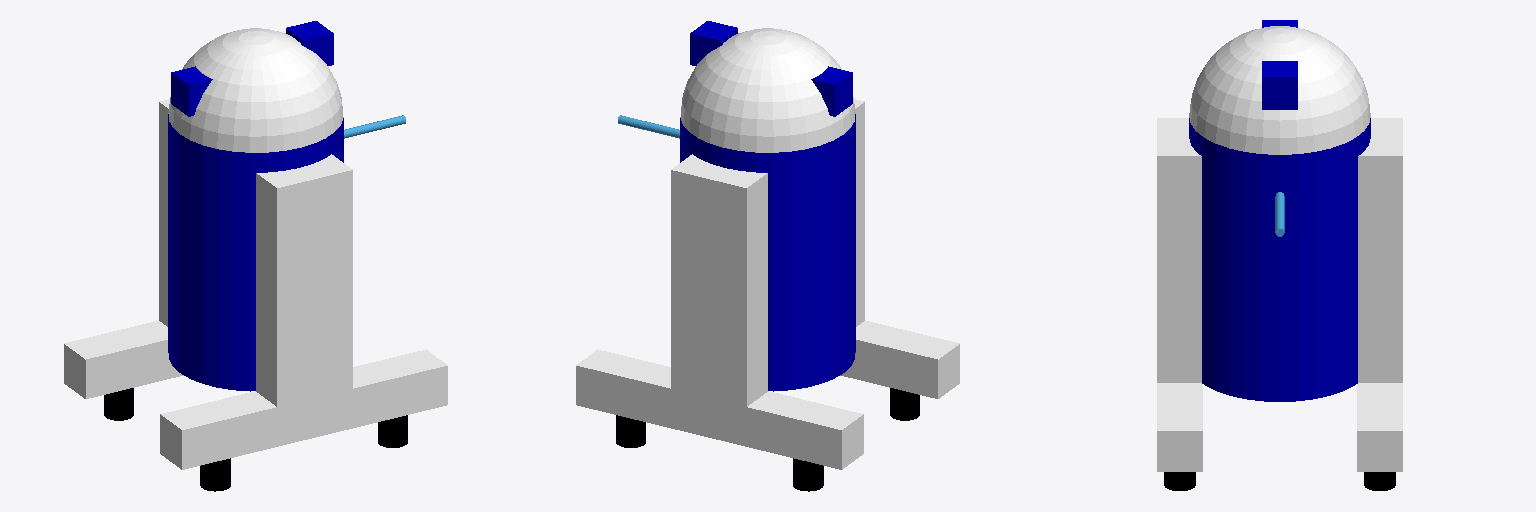
--- Facts derived from the render (not from the file) ---
Views: 3 orthographic renders of the robot side by side, from view 1: azimuth 30°, elevation 25°; view 2: azimuth 150°, elevation 25°; view 3: azimuth 270°, elevation 25°.
Model r2d2 with 24 links and 23 joints (2 revolute, 5 continuous, 1 prismatic, 15 fixed), rooted at base_link, posed all joints at 0.
Visible links, largest first — view 1: right_leg, base_link, head, right_base, left_base, left_leg, box2, box, right_back_wheel, left_back_wheel, right_front_wheel, gripper_pole; view 2: left_leg, base_link, head, left_base, right_base, right_leg, box2, box, left_back_wheel, right_back_wheel, left_front_wheel, gripper_pole; view 3: base_link, head, right_leg, left_leg, right_base, left_base, box, right_front_wheel, left_front_wheel.
Link boxes in pixels (bbox=[...]): right_leg: bbox=[256, 154, 352, 425]; base_link: bbox=[168, 114, 343, 391]; head: bbox=[168, 28, 343, 152]; right_base: bbox=[160, 349, 447, 469]; left_base: bbox=[64, 320, 183, 398]; left_leg: bbox=[159, 99, 169, 326]; box2: bbox=[171, 66, 212, 116]; box: bbox=[286, 21, 333, 65]; right_back_wheel: bbox=[200, 458, 230, 491]; left_back_wheel: bbox=[104, 388, 133, 420]; right_front_wheel: bbox=[378, 415, 407, 447]; gripper_pole: bbox=[344, 115, 405, 138]; left_leg: bbox=[671, 154, 767, 426]; base_link: bbox=[680, 114, 855, 391]; head: bbox=[680, 28, 855, 152]; left_base: bbox=[576, 349, 863, 469]; right_base: bbox=[840, 320, 959, 398]; right_leg: bbox=[854, 99, 864, 326]; box2: bbox=[811, 66, 852, 116]; box: bbox=[690, 21, 737, 65]; left_back_wheel: bbox=[793, 458, 823, 491]; right_back_wheel: bbox=[890, 388, 919, 420]; left_front_wheel: bbox=[616, 415, 645, 447]; gripper_pole: bbox=[618, 115, 679, 138]; base_link: bbox=[1189, 118, 1370, 401]; head: bbox=[1189, 26, 1370, 154]; right_leg: bbox=[1157, 118, 1201, 382]; left_leg: bbox=[1358, 118, 1402, 382]; right_base: bbox=[1157, 383, 1202, 471]; left_base: bbox=[1357, 383, 1402, 471]; box: bbox=[1262, 61, 1297, 109]; right_front_wheel: bbox=[1164, 472, 1195, 490]; left_front_wheel: bbox=[1364, 472, 1395, 490].
Size in the robot's own frame: 0.74 by 0.54 by 0.985 metres.
Meshes: 3 distinct files referenced, 0 mesh visuals loaded (none loaded); not drawn: 5 (reference not matched to a file when rendering).

URDF robot description (r2d2):
<?xml version="1.0" ?>
<!-- =================================================================================== -->
<!-- |    This document was autogenerated by xacro from urdf/r2d2.xacro                | -->
<!-- |    EDITING THIS FILE BY HAND IS NOT RECOMMENDED                                 | -->
<!-- =================================================================================== -->
<robot name="r2d2" xmlns:xacro="http://ros.org/wiki/xacro">
  <material name="blue">
    <color rgba="0 0 .8 1"/>
  </material>
  <material name="black">
    <color rgba="0 0 0 1"/>
  </material>
  <material name="white">
    <color rgba="1 1 1 1"/>
  </material>
  <link name="base_link">
    <visual>
      <geometry>
        <cylinder length="0.6" radius="0.2"/>
      </geometry>
      <material name="blue"/>
    </visual>
    <collision>
      <geometry>
        <cylinder length="0.6" radius="0.2"/>
      </geometry>
    </collision>
    <inertial>
      <mass value="10"/>
      <inertia ixx="1.0" ixy="0.0" ixz="0.0" iyy="1.0" iyz="0.0" izz="1.0"/>
    </inertial>
  </link>
  <gazebo reference="base_link">
    <material>Gazebo/Blue</material>
  </gazebo>
  <link name="right_leg">
    <visual>
      <geometry>
        <box size="0.6 .1 .2"/>
      </geometry>
      <origin rpy="0 1.57075 0" xyz="0 0 -0.3"/>
      <material name="white"/>
    </visual>
    <collision>
      <geometry>
        <box size="0.6 .1 .2"/>
      </geometry>
      <origin rpy="0 1.57075 0" xyz="0 0 -0.3"/>
    </collision>
    <inertial>
      <mass value="10"/>
      <inertia ixx="1.0" ixy="0.0" ixz="0.0" iyy="1.0" iyz="0.0" izz="1.0"/>
    </inertial>
  </link>
  <gazebo reference="right_leg">
    <material>Gazebo/White</material>
  </gazebo>
  <joint name="base_to_right_leg" type="fixed">
    <parent link="base_link"/>
    <child link="right_leg"/>
    <origin xyz="0 -0.22 .25"/>
  </joint>
  <link name="right_base">
    <visual>
      <geometry>
        <box size="0.7 .1 .1"/>
      </geometry>
      <material name="white"/>
    </visual>
    <collision>
      <geometry>
        <box size="0.7 .1 .1"/>
      </geometry>
    </collision>
    <inertial>
      <mass value="10"/>
      <inertia ixx="1.0" ixy="0.0" ixz="0.0" iyy="1.0" iyz="0.0" izz="1.0"/>
    </inertial>
  </link>
  <gazebo reference="right_base">
    <material>Gazebo/White</material>
  </gazebo>
  <joint name="right_base_joint" type="fixed">
    <parent link="right_leg"/>
    <child link="right_base"/>
    <origin xyz="0 0 -0.6"/>
  </joint>
  <link name="right_front_wheel">
    <visual>
      <origin rpy="1.57075 0 0" xyz="0 0 0"/>
      <geometry>
        <cylinder length="0.1" radius="0.035"/>
      </geometry>
      <material name="black"/>
      <origin rpy="0 0 0" xyz="0 0 0"/>
    </visual>
    <collision>
      <origin rpy="1.57075 0 0" xyz="0 0 0"/>
      <geometry>
        <cylinder length="0.1" radius="0.035"/>
      </geometry>
      <origin rpy="0 0 0" xyz="0 0 0"/>
    </collision>
    <inertial>
      <mass value="1"/>
      <inertia ixx="1.0" ixy="0.0" ixz="0.0" iyy="1.0" iyz="0.0" izz="1.0"/>
    </inertial>
  </link>
  <joint name="right_front_wheel_joint" type="continuous">
    <axis rpy="0 0 0" xyz="0 1 0"/>
    <parent link="right_base"/>
    <child link="right_front_wheel"/>
    <origin rpy="0 0 0" xyz="0.233333333333 0 -0.085"/>
  </joint>
  <!-- This block provides the simulator (Gazebo) with information on a few additional
    physical properties. See http://gazebosim.org/tutorials/?tut=ros_urdf for more-->
  <gazebo reference="right_front_wheel">
    <mu1 value="200.0"/>
    <mu2 value="100.0"/>
    <kp value="10000000.0"/>
    <kd value="1.0"/>
    <material>Gazebo/Grey</material>
  </gazebo>
  <!-- This block connects the wheel joint to an actuator (motor), which informs both
    simulation and visualization of the robot -->
  <transmission name="right_front_wheel_trans" type="SimpleTransmission">
    <type>transmission_interface/SimpleTransmission</type>
    <actuator name="right_front_wheel_motor">
      <mechanicalReduction>1</mechanicalReduction>
    </actuator>
    <joint name="right_front_wheel_joint">
      <hardwareInterface>VelocityJointInterface</hardwareInterface>
    </joint>
  </transmission>
  <link name="right_back_wheel">
    <visual>
      <origin rpy="1.57075 0 0" xyz="0 0 0"/>
      <geometry>
        <cylinder length="0.1" radius="0.035"/>
      </geometry>
      <material name="black"/>
      <origin rpy="0 0 0" xyz="0 0 0"/>
    </visual>
    <collision>
      <origin rpy="1.57075 0 0" xyz="0 0 0"/>
      <geometry>
        <cylinder length="0.1" radius="0.035"/>
      </geometry>
      <origin rpy="0 0 0" xyz="0 0 0"/>
    </collision>
    <inertial>
      <mass value="1"/>
      <inertia ixx="1.0" ixy="0.0" ixz="0.0" iyy="1.0" iyz="0.0" izz="1.0"/>
    </inertial>
  </link>
  <joint name="right_back_wheel_joint" type="continuous">
    <axis rpy="0 0 0" xyz="0 1 0"/>
    <parent link="right_base"/>
    <child link="right_back_wheel"/>
    <origin rpy="0 0 0" xyz="-0.233333333333 0 -0.085"/>
  </joint>
  <!-- This block provides the simulator (Gazebo) with information on a few additional
    physical properties. See http://gazebosim.org/tutorials/?tut=ros_urdf for more-->
  <gazebo reference="right_back_wheel">
    <mu1 value="200.0"/>
    <mu2 value="100.0"/>
    <kp value="10000000.0"/>
    <kd value="1.0"/>
    <material>Gazebo/Grey</material>
  </gazebo>
  <!-- This block connects the wheel joint to an actuator (motor), which informs both
    simulation and visualization of the robot -->
  <transmission name="right_back_wheel_trans" type="SimpleTransmission">
    <type>transmission_interface/SimpleTransmission</type>
    <actuator name="right_back_wheel_motor">
      <mechanicalReduction>1</mechanicalReduction>
    </actuator>
    <joint name="right_back_wheel_joint">
      <hardwareInterface>VelocityJointInterface</hardwareInterface>
    </joint>
  </transmission>
  <link name="left_leg">
    <visual>
      <geometry>
        <box size="0.6 .1 .2"/>
      </geometry>
      <origin rpy="0 1.57075 0" xyz="0 0 -0.3"/>
      <material name="white"/>
    </visual>
    <collision>
      <geometry>
        <box size="0.6 .1 .2"/>
      </geometry>
      <origin rpy="0 1.57075 0" xyz="0 0 -0.3"/>
    </collision>
    <inertial>
      <mass value="10"/>
      <inertia ixx="1.0" ixy="0.0" ixz="0.0" iyy="1.0" iyz="0.0" izz="1.0"/>
    </inertial>
  </link>
  <gazebo reference="left_leg">
    <material>Gazebo/White</material>
  </gazebo>
  <joint name="base_to_left_leg" type="fixed">
    <parent link="base_link"/>
    <child link="left_leg"/>
    <origin xyz="0 0.22 .25"/>
  </joint>
  <link name="left_base">
    <visual>
      <geometry>
        <box size="0.7 .1 .1"/>
      </geometry>
      <material name="white"/>
    </visual>
    <collision>
      <geometry>
        <box size="0.7 .1 .1"/>
      </geometry>
    </collision>
    <inertial>
      <mass value="10"/>
      <inertia ixx="1.0" ixy="0.0" ixz="0.0" iyy="1.0" iyz="0.0" izz="1.0"/>
    </inertial>
  </link>
  <gazebo reference="left_base">
    <material>Gazebo/White</material>
  </gazebo>
  <joint name="left_base_joint" type="fixed">
    <parent link="left_leg"/>
    <child link="left_base"/>
    <origin xyz="0 0 -0.6"/>
  </joint>
  <link name="left_front_wheel">
    <visual>
      <origin rpy="1.57075 0 0" xyz="0 0 0"/>
      <geometry>
        <cylinder length="0.1" radius="0.035"/>
      </geometry>
      <material name="black"/>
      <origin rpy="0 0 0" xyz="0 0 0"/>
    </visual>
    <collision>
      <origin rpy="1.57075 0 0" xyz="0 0 0"/>
      <geometry>
        <cylinder length="0.1" radius="0.035"/>
      </geometry>
      <origin rpy="0 0 0" xyz="0 0 0"/>
    </collision>
    <inertial>
      <mass value="1"/>
      <inertia ixx="1.0" ixy="0.0" ixz="0.0" iyy="1.0" iyz="0.0" izz="1.0"/>
    </inertial>
  </link>
  <joint name="left_front_wheel_joint" type="continuous">
    <axis rpy="0 0 0" xyz="0 1 0"/>
    <parent link="left_base"/>
    <child link="left_front_wheel"/>
    <origin rpy="0 0 0" xyz="0.233333333333 0 -0.085"/>
  </joint>
  <!-- This block provides the simulator (Gazebo) with information on a few additional
    physical properties. See http://gazebosim.org/tutorials/?tut=ros_urdf for more-->
  <gazebo reference="left_front_wheel">
    <mu1 value="200.0"/>
    <mu2 value="100.0"/>
    <kp value="10000000.0"/>
    <kd value="1.0"/>
    <material>Gazebo/Grey</material>
  </gazebo>
  <!-- This block connects the wheel joint to an actuator (motor), which informs both
    simulation and visualization of the robot -->
  <transmission name="left_front_wheel_trans" type="SimpleTransmission">
    <type>transmission_interface/SimpleTransmission</type>
    <actuator name="left_front_wheel_motor">
      <mechanicalReduction>1</mechanicalReduction>
    </actuator>
    <joint name="left_front_wheel_joint">
      <hardwareInterface>VelocityJointInterface</hardwareInterface>
    </joint>
  </transmission>
  <link name="left_back_wheel">
    <visual>
      <origin rpy="1.57075 0 0" xyz="0 0 0"/>
      <geometry>
        <cylinder length="0.1" radius="0.035"/>
      </geometry>
      <material name="black"/>
      <origin rpy="0 0 0" xyz="0 0 0"/>
    </visual>
    <collision>
      <origin rpy="1.57075 0 0" xyz="0 0 0"/>
      <geometry>
        <cylinder length="0.1" radius="0.035"/>
      </geometry>
      <origin rpy="0 0 0" xyz="0 0 0"/>
    </collision>
    <inertial>
      <mass value="1"/>
      <inertia ixx="1.0" ixy="0.0" ixz="0.0" iyy="1.0" iyz="0.0" izz="1.0"/>
    </inertial>
  </link>
  <joint name="left_back_wheel_joint" type="continuous">
    <axis rpy="0 0 0" xyz="0 1 0"/>
    <parent link="left_base"/>
    <child link="left_back_wheel"/>
    <origin rpy="0 0 0" xyz="-0.233333333333 0 -0.085"/>
  </joint>
  <!-- This block provides the simulator (Gazebo) with information on a few additional
    physical properties. See http://gazebosim.org/tutorials/?tut=ros_urdf for more-->
  <gazebo reference="left_back_wheel">
    <mu1 value="200.0"/>
    <mu2 value="100.0"/>
    <kp value="10000000.0"/>
    <kd value="1.0"/>
    <material>Gazebo/Grey</material>
  </gazebo>
  <!-- This block connects the wheel joint to an actuator (motor), which informs both
    simulation and visualization of the robot -->
  <transmission name="left_back_wheel_trans" type="SimpleTransmission">
    <type>transmission_interface/SimpleTransmission</type>
    <actuator name="left_back_wheel_motor">
      <mechanicalReduction>1</mechanicalReduction>
    </actuator>
    <joint name="left_back_wheel_joint">
      <hardwareInterface>VelocityJointInterface</hardwareInterface>
    </joint>
  </transmission>
  <joint name="gripper_extension" type="prismatic">
    <parent link="base_link"/>
    <child link="gripper_pole"/>
    <limit effort="1000.0" lower="-0.38" upper="0" velocity="0.5"/>
    <origin rpy="0 0 0" xyz="0.19 0 .2"/>
    <limit effort="30" velocity="0.2"/>
    <dynamics damping="0.0" friction="0.0"/>
  </joint>
  <link name="gripper_pole">
    <visual>
      <geometry>
        <cylinder length="0.2" radius=".01"/>
      </geometry>
      <origin rpy="0 1.57075 0 " xyz="0.1 0 0"/>
    </visual>
    <collision>
      <geometry>
        <cylinder length="0.2" radius=".01"/>
      </geometry>
      <origin rpy="0 1.57075 0 " xyz="0.1 0 0"/>
    </collision>
    <inertial>
      <mass value="0.05"/>
      <inertia ixx="1.0" ixy="0.0" ixz="0.0" iyy="1.0" iyz="0.0" izz="1.0"/>
    </inertial>
  </link>
  <transmission name="gripper_extension_trans" type="SimpleTransmission">
    <type>transmission_interface/SimpleTransmission</type>
    <actuator name="gripper_extension_motor">
      <mechanicalReduction>1</mechanicalReduction>
    </actuator>
    <joint name="gripper_extension">
      <hardwareInterface>PositionJointInterface</hardwareInterface>
    </joint>
  </transmission>
  <joint name="left_gripper_joint" type="revolute">
    <axis xyz="0 0 1"/>
    <limit effort="1000.0" lower="0.0" upper="0.548" velocity="0.5"/>
    <origin rpy="0 0 0" xyz="0.2 0.01 0"/>
    <parent link="gripper_pole"/>
    <child link="left_gripper"/>
    <limit effort="30" velocity="1.0"/>
    <dynamics damping="0.0" friction="0.0"/>
  </joint>
  <link name="left_gripper">
    <visual>
      <origin rpy="0.0 0 0" xyz="0 0 0"/>
      <geometry>
        <mesh filename="package://pr2_description/meshes/gripper_v0/l_finger.dae"/>
      </geometry>
    </visual>
    <collision>
      <geometry>
        <mesh filename="package://pr2_description/meshes/gripper_v0/l_finger.dae"/>
      </geometry>
      <origin rpy="0.0 0 0" xyz="0 0 0"/>
    </collision>
    <inertial>
      <mass value="0.05"/>
      <inertia ixx="1.0" ixy="0.0" ixz="0.0" iyy="1.0" iyz="0.0" izz="1.0"/>
    </inertial>
  </link>
  <transmission name="left_gripper_trans" type="SimpleTransmission">
    <type>transmission_interface/SimpleTransmission</type>
    <actuator name="left_gripper_motor">
      <mechanicalReduction>1</mechanicalReduction>
    </actuator>
    <joint name="left_gripper_joint">
      <hardwareInterface>PositionJointInterface</hardwareInterface>
    </joint>
  </transmission>
  <joint name="left_tip_joint" type="fixed">
    <parent link="left_gripper"/>
    <child link="left_tip"/>
  </joint>
  <link name="left_tip">
    <visual>
      <origin rpy="0.0 0 0" xyz="0.09137 0.00495 0"/>
      <geometry>
        <mesh filename="package://pr2_description/meshes/gripper_v0/l_finger_tip.dae"/>
      </geometry>
    </visual>
    <collision>
      <geometry>
        <mesh filename="package://pr2_description/meshes/gripper_v0/l_finger_tip.dae"/>
      </geometry>
      <origin rpy="0.0 0 0" xyz="0.09137 0.00495 0"/>
    </collision>
    <inertial>
      <mass value="0.05"/>
      <inertia ixx="1.0" ixy="0.0" ixz="0.0" iyy="1.0" iyz="0.0" izz="1.0"/>
    </inertial>
  </link>
  <joint name="right_gripper_joint" type="revolute">
    <axis xyz="0 0 -1"/>
    <limit effort="1000.0" lower="0.0" upper="0.548" velocity="0.5"/>
    <origin rpy="0 0 0" xyz="0.2 -0.01 0"/>
    <parent link="gripper_pole"/>
    <child link="right_gripper"/>
    <limit effort="30" velocity="1.0"/>
    <dynamics damping="0.0" friction="0.0"/>
  </joint>
  <link name="right_gripper">
    <visual>
      <origin rpy="-3.1415 0 0" xyz="0 0 0"/>
      <geometry>
        <mesh filename="package://pr2_description/meshes/gripper_v0/l_finger.dae"/>
      </geometry>
    </visual>
    <collision>
      <geometry>
        <mesh filename="package://pr2_description/meshes/gripper_v0/l_finger.dae"/>
      </geometry>
      <origin rpy="-3.1415 0 0" xyz="0 0 0"/>
    </collision>
    <inertial>
      <mass value="0.05"/>
      <inertia ixx="1.0" ixy="0.0" ixz="0.0" iyy="1.0" iyz="0.0" izz="1.0"/>
    </inertial>
  </link>
  <transmission name="right_gripper_trans" type="SimpleTransmission">
    <type>transmission_interface/SimpleTransmission</type>
    <actuator name="right_gripper_motor">
      <mechanicalReduction>1</mechanicalReduction>
    </actuator>
    <joint name="right_gripper_joint">
      <hardwareInterface>PositionJointInterface</hardwareInterface>
    </joint>
  </transmission>
  <joint name="right_tip_joint" type="fixed">
    <parent link="right_gripper"/>
    <child link="right_tip"/>
  </joint>
  <link name="right_tip">
    <visual>
      <origin rpy="-3.1415 0 0" xyz="0.09137 0.00495 0"/>
      <geometry>
        <mesh filename="package://pr2_description/meshes/gripper_v0/l_finger_tip.dae"/>
      </geometry>
    </visual>
    <collision>
      <geometry>
        <mesh filename="package://pr2_description/meshes/gripper_v0/l_finger_tip.dae"/>
      </geometry>
      <origin rpy="-3.1415 0 0" xyz="0.09137 0.00495 0"/>
    </collision>
    <inertial>
      <mass value="0.05"/>
      <inertia ixx="1.0" ixy="0.0" ixz="0.0" iyy="1.0" iyz="0.0" izz="1.0"/>
    </inertial>
  </link>
  <link name="head">
    <visual>
      <geometry>
        <sphere radius="0.2"/>
      </geometry>
      <material name="white"/>
    </visual>
    <collision>
      <geometry>
        <sphere radius="0.2"/>
      </geometry>
    </collision>
    <inertial>
      <mass value="2"/>
      <inertia ixx="1.0" ixy="0.0" ixz="0.0" iyy="1.0" iyz="0.0" izz="1.0"/>
    </inertial>
  </link>
  <gazebo reference="head">
    <material>Gazebo/White</material>
  </gazebo>
  <joint name="head_swivel" type="continuous">
    <parent link="base_link"/>
    <child link="head"/>
    <axis xyz="0 0 1"/>
    <origin xyz="0 0 0.3"/>
    <limit effort="30" velocity="1.0"/>
    <dynamics damping="0.0" friction="0.0"/>
  </joint>
  <!-- This block connects the head_swivel joint to an actuator (motor), which informs both
  simulation and visualization of the robot -->
  <transmission name="head_swivel_trans" type="SimpleTransmission">
    <type>transmission_interface/SimpleTransmission</type>
    <actuator name="$head_swivel_motor">
      <mechanicalReduction>1</mechanicalReduction>
    </actuator>
    <joint name="head_swivel">
      <hardwareInterface>PositionJointInterface</hardwareInterface>
    </joint>
  </transmission>
  <link name="box">
    <visual>
      <geometry>
        <box size=".08 .08 .08"/>
      </geometry>
      <material name="blue"/>
      <origin xyz="-0.04 0 0"/>
    </visual>
    <collision>
      <geometry>
        <box size=".08 .08 .08"/>
      </geometry>
    </collision>
    <inertial>
      <mass value="1"/>
      <inertia ixx="1.0" ixy="0.0" ixz="0.0" iyy="1.0" iyz="0.0" izz="1.0"/>
    </inertial>
  </link>
  <gazebo reference="box">
    <material>Gazebo/Blue</material>
  </gazebo>
  <joint name="tobox" type="fixed">
    <parent link="head"/>
    <child link="box"/>
    <origin xyz="0.1814 0 0.1414"/>
  </joint>
  <link name="front_kinect">
    <inertial>
      <mass value="0"/>
      <inertia ixx="1.0" ixy="0.0" ixz="0.0" iyy="1.0" iyz="0.0" izz="1.0"/>
    </inertial>
  </link>
  <gazebo reference="front_kinect">
    <material>Gazebo/Black</material>
  </gazebo>
  <joint name="tokinect" type="fixed">
    <parent link="box"/>
    <child link="front_kinect"/>
    <origin rpy="0 0.4 0" xyz="0.01 0 0.04"/>
    <!--change the middle number of the rpy on this line to adjust kinect pitch -->
  </joint>
  <joint name="camera_rgb_joint" type="fixed">
    <origin rpy="0 0 0" xyz="0 0 0"/>
    <parent link="front_kinect"/>
    <child link="camera_rgb_frame"/>
  </joint>
  <link name="camera_rgb_frame"/>
  <joint name="camera_rgb_optical_joint" type="fixed">
    <origin rpy="-1.57079632679 0 -1.57079632679" xyz="0 0 0"/>
    <parent link="camera_rgb_frame"/>
    <child link="camera_rgb_optical_frame"/>
  </joint>
  <link name="camera_rgb_optical_frame"/>
  <joint name="camera_joint" type="fixed">
    <origin rpy="0 0 0" xyz="-0.031 0.0125 -0.016"/>
    <parent link="camera_rgb_frame"/>
    <child link="camera_link"/>
  </joint>
  <link name="camera_link">
    <visual>
      <origin rpy="0 0 1.57079632679" xyz="0 0 0"/>
      <geometry>
        <mesh filename="package://turtlebot_description/meshes/sensors/kinect.dae"/>
      </geometry>
    </visual>
    <collision>
      <origin rpy="0 0 0" xyz="0.0 0.0 0.0"/>
      <geometry>
        <box size="0.07271 0.27794 0.073"/>
      </geometry>
    </collision>
    <inertial>
      <mass value="0.564"/>
      <origin xyz="0 0 0"/>
      <inertia ixx="0.003881243" ixy="0.0" ixz="0.0" iyy="0.000498940" iyz="0.0" izz="0.003879257"/>
    </inertial>
  </link>
  <joint name="camera_depth_joint" type="fixed">
    <origin rpy="0 0 0" xyz="0 0.025 0"/>
    <parent link="camera_rgb_frame"/>
    <child link="camera_depth_frame"/>
  </joint>
  <link name="camera_depth_frame"/>
  <joint name="camera_depth_optical_joint" type="fixed">
    <origin rpy="-1.57079632679 0 -1.57079632679" xyz="0 0 0"/>
    <parent link="camera_depth_frame"/>
    <child link="camera_depth_optical_frame"/>
  </joint>
  <link name="camera_depth_optical_frame"/>
  <gazebo reference="camera_link">
    <sensor name="camera" type="depth">
      <always_on>true</always_on>
      <update_rate>20.0</update_rate>
      <camera>
        <horizontal_fov>1.0471975512</horizontal_fov>
        <image>
          <format>R8G8B8</format>
          <width>640</width>
          <height>480</height>
        </image>
        <clip>
          <near>0.05</near>
          <far>8.0</far>
        </clip>
      </camera>
      <plugin filename="libgazebo_ros_openni_kinect.so" name="kinect_camera_controller">
        <cameraName>camera</cameraName>
        <alwaysOn>true</alwaysOn>
        <updateRate>10</updateRate>
        <imageTopicName>rgb/image_raw</imageTopicName>
        <depthImageTopicName>depth/image_raw</depthImageTopicName>
        <pointCloudTopicName>depth/points</pointCloudTopicName>
        <cameraInfoTopicName>rgb/camera_info</cameraInfoTopicName>
        <depthImageCameraInfoTopicName>depth/camera_info</depthImageCameraInfoTopicName>
        <frameName>camera_depth_optical_frame</frameName>
        <baseline>0.1</baseline>
        <distortion_k1>0.0</distortion_k1>
        <distortion_k2>0.0</distortion_k2>
        <distortion_k3>0.0</distortion_k3>
        <distortion_t1>0.0</distortion_t1>
        <distortion_t2>0.0</distortion_t2>
        <pointCloudCutoff>0.4</pointCloudCutoff>
      </plugin>
    </sensor>
  </gazebo>
  <link name="box2">
    <visual>
      <geometry>
        <box size=".08 .08 .08"/>
      </geometry>
      <material name="blue"/>
      <origin xyz="-0.04 0 0"/>
    </visual>
    <collision>
      <geometry>
        <box size=".08 .08 .08"/>
      </geometry>
    </collision>
    <inertial>
      <mass value="1"/>
      <inertia ixx="1.0" ixy="0.0" ixz="0.0" iyy="1.0" iyz="0.0" izz="1.0"/>
    </inertial>
  </link>
  <gazebo reference="box2">
    <material>Gazebo/Blue</material>
  </gazebo>
  <joint name="tobox2" type="fixed">
    <parent link="head"/>
    <child link="box2"/>
    <origin xyz="-0.12 0 0.10"/>
  </joint>
  <link name="invisibleBox">
    <visual>
      <geometry>
        <box size="0 0 0"/>
      </geometry>
      <origin xyz="-0.04 0 0"/>
    </visual>
    <collision>
      <geometry>
        <box size="0 0 0"/>
      </geometry>
    </collision>
    <inertial>
      <mass value="0"/>
      <inertia ixx="1.0" ixy="0.0" ixz="0.0" iyy="1.0" iyz="0.0" izz="1.0"/>
    </inertial>
  </link>
  <joint name="toboxInvisible" type="fixed">
    <parent link="box2"/>
    <child link="invisibleBox"/>
    <origin rpy="0  0 3.14" xyz="-0.08 0 0.04"/>
  </joint>
  <!-- hokuyo -->
  <gazebo reference="invisibleBox">
    <sensor name="head_hokuyo_sensor" type="ray">
      <pose>0 0 0 0 0 0</pose>
      <visualize>true</visualize>
      <update_rate>40</update_rate>
      <ray>
        <scan>
          <horizontal>
            <samples>720</samples>
            <resolution>1</resolution>
            <!--<min_angle>-1.570796</min_angle>
            <max_angle>1.570796</max_angle>-->
            <min_angle>-1.75</min_angle>
            <max_angle>1.75</max_angle>
          </horizontal>
        </scan>
        <range>
          <min>0.10</min>
          <max>50.0</max>
          <resolution>0.01</resolution>
        </range>
        <noise>
          <type>gaussian</type>
          <!-- Noise parameters based on published spec for Hokuyo laser
               achieving "+-30mm" accuracy at range < 10m.  A mean of 0.0m and
               stddev of 0.01m will put 99.7% of samples within 0.03m of the true
               reading. -->
          <mean>0.0</mean>
          <stddev>0.01</stddev>
        </noise>
      </ray>
      <plugin filename="libgazebo_ros_laser.so" name="gazebo_ros_head_hokuyo_controller">
        <topicName>scan</topicName>
        <frameName>invisibleBox</frameName>
      </plugin>
    </sensor>
  </gazebo>
  <!-- Gazebo plugin for ROS Control -->
  <gazebo>
    <plugin filename="libgazebo_ros_control.so" name="gazebo_ros_control">
      <robotNamespace>/</robotNamespace>
    </plugin>
  </gazebo>
</robot>
